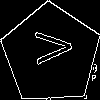V: (26, 29, 73, 66)
